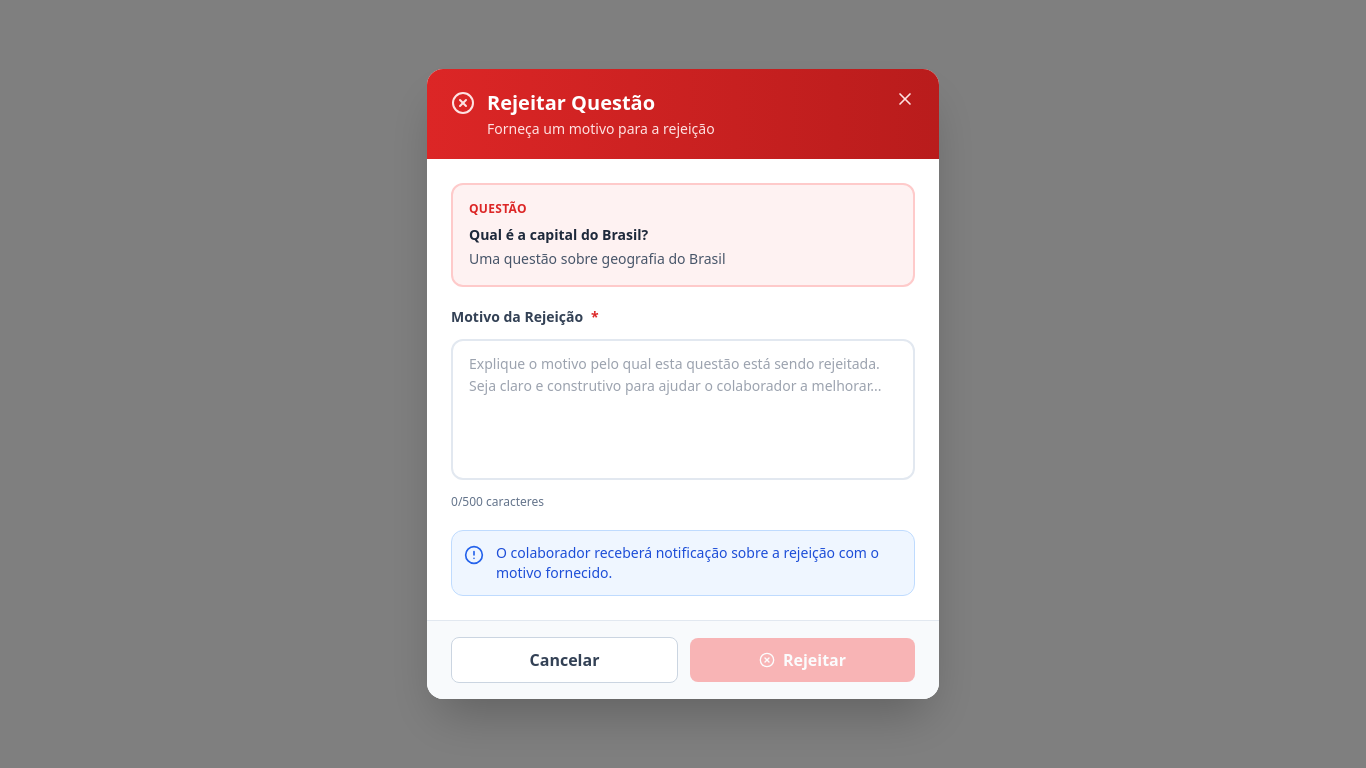
it: RejectModal Component › Button States › should enable Rejeitar button when valid motivo is entered
The image size is (1366, 768).
Type "Valid rejection reason" into the text box with placeholder "Explique o motivo pelo qual esta questão está sendo rejeitada" at (683, 410), box left=451, top=339, right=915, bottom=480
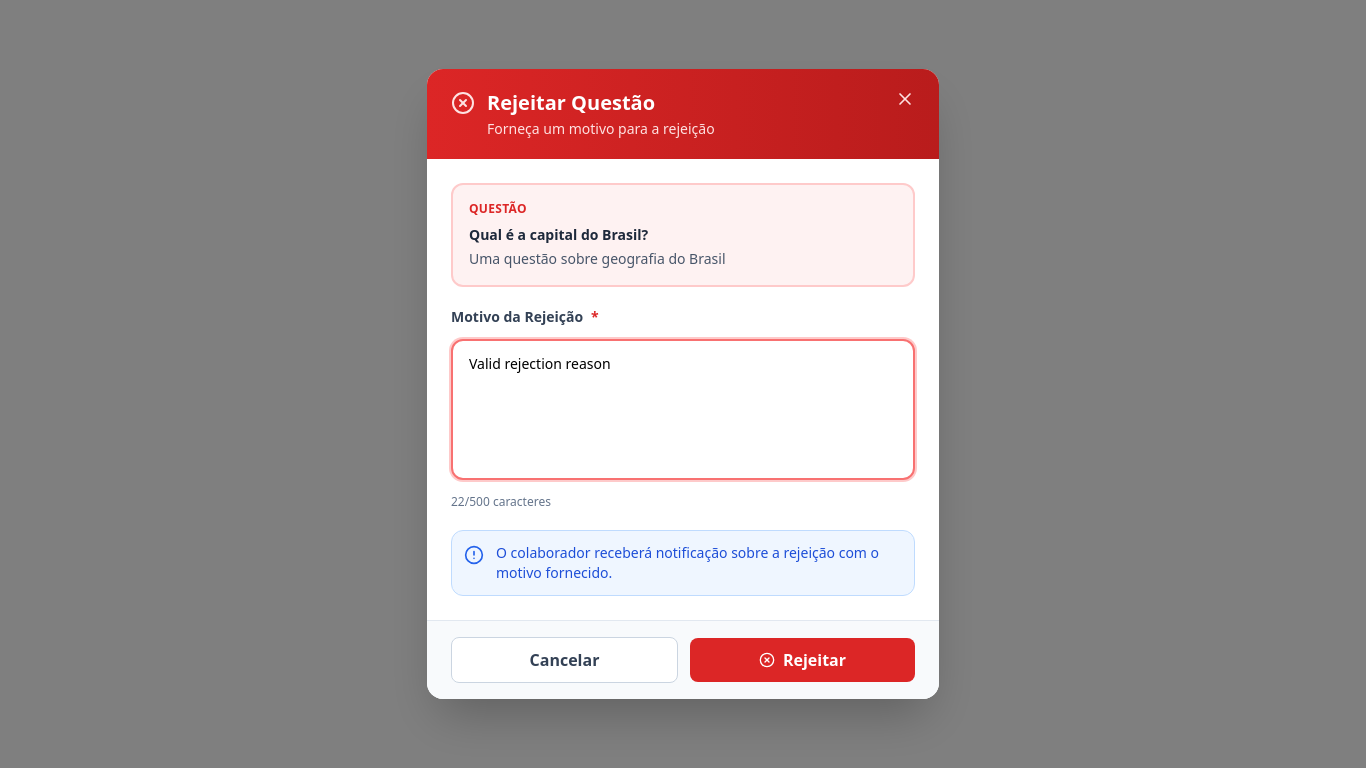
Expected: the button "Rejeitar" is enabled, left=690, top=638, right=915, bottom=682
